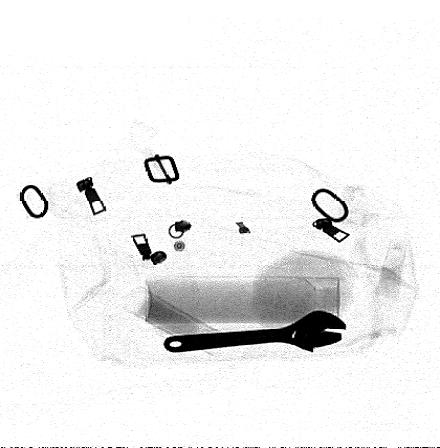Wrench: (159, 310, 349, 354)
